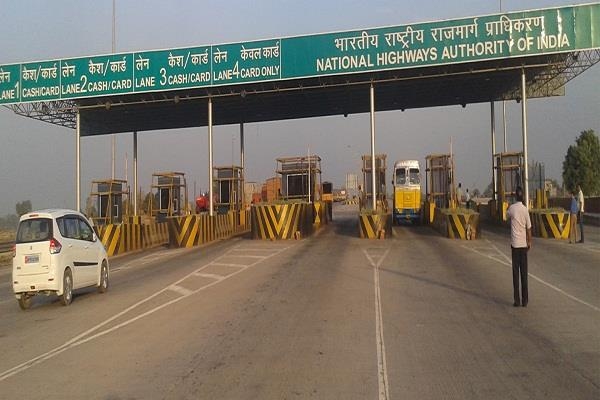toll plaza: (1, 1, 600, 103)
